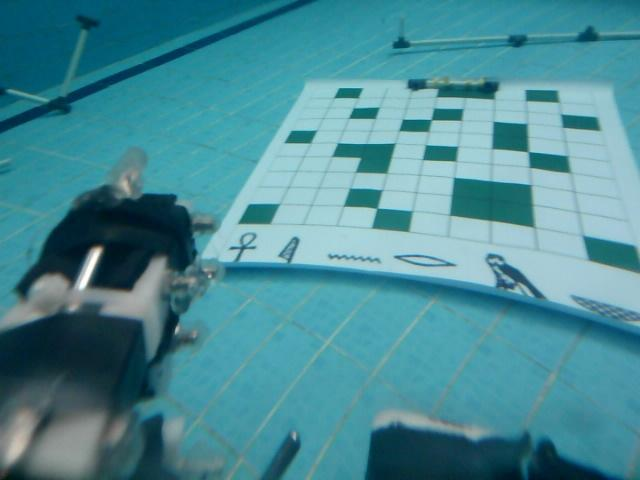Ankh: (229, 231, 260, 265)
Mouth: (392, 253, 458, 271)
Owl: (477, 247, 550, 306)
Reed: (275, 234, 302, 270)
Water: (324, 249, 384, 264)
